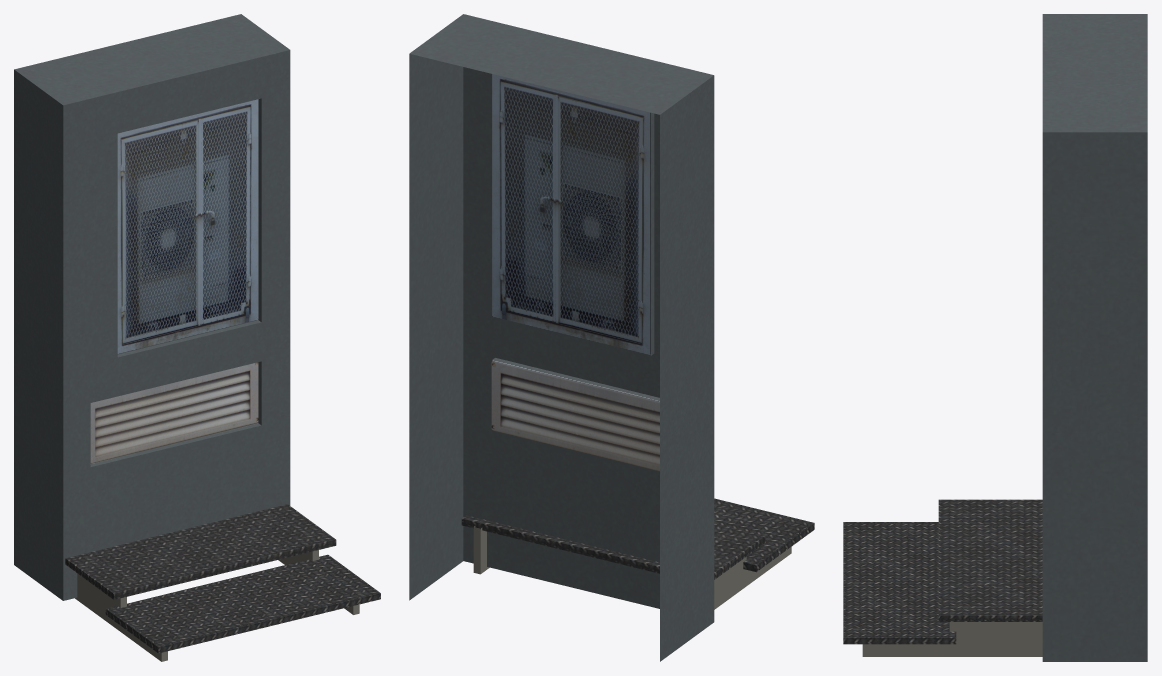
File: control_terminal.fbx
3 renders of one model, left to right at view 1: azimuth 30°, elevation 25°; view 2: azimuth 150°, elevation 25°; view 3: azimuth 270°, elevation 25°, orthographic. The views are drawn at different scales.
Parts seen in each view (by area): view 1: control_terminal; view 2: control_terminal; view 3: control_terminal.
Part boxes in pixels (x1=…): control_terminal: x1=14, y1=14, x2=380, y2=661; control_terminal: x1=409, y1=14, x2=814, y2=661; control_terminal: x1=843, y1=14, x2=1147, y2=661.
Size of the model in its own units: 300 by 630 by 326.
